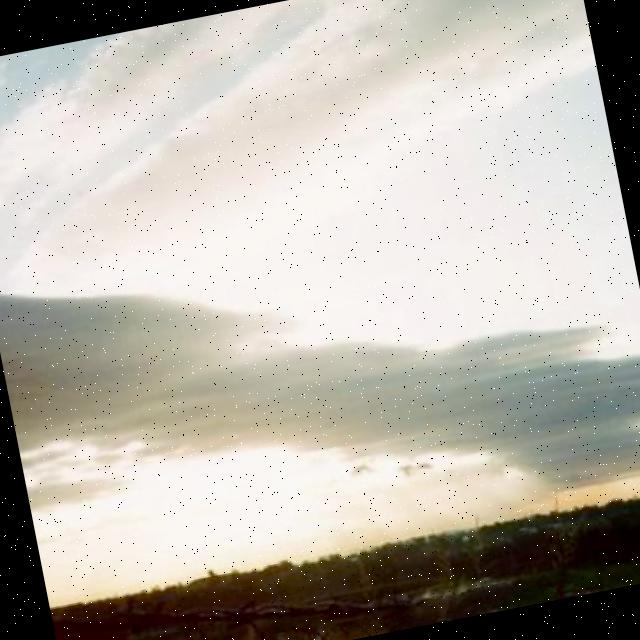Sc: (1, 40, 640, 572)
